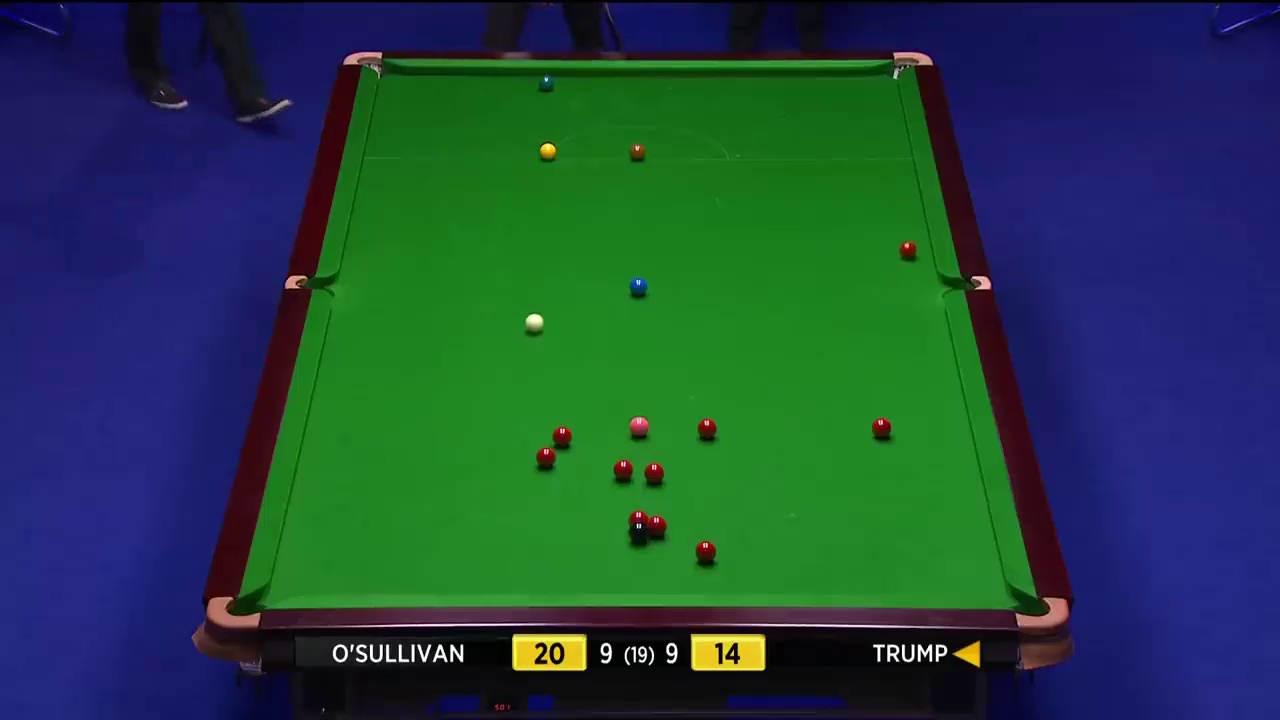ball: (520, 312, 548, 333), (693, 539, 715, 565), (870, 415, 891, 441), (627, 521, 650, 543), (613, 458, 635, 480), (643, 461, 665, 483), (627, 276, 650, 297), (536, 141, 557, 163), (535, 448, 554, 470), (553, 425, 572, 447), (698, 418, 717, 439), (900, 240, 917, 261), (630, 416, 647, 437), (627, 143, 645, 162), (536, 76, 556, 92)
